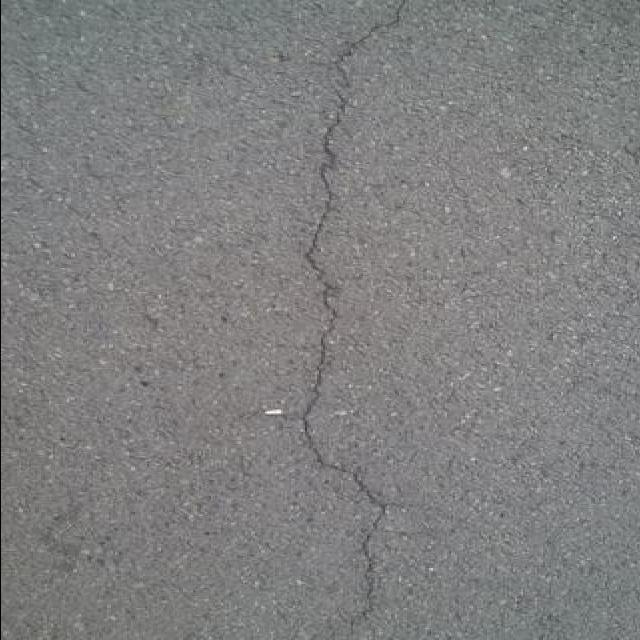crack: (296, 0, 412, 638), (300, 128, 341, 411), (321, 3, 410, 102), (333, 67, 354, 95)
dampens: (316, 149, 340, 230), (384, 0, 409, 31)
